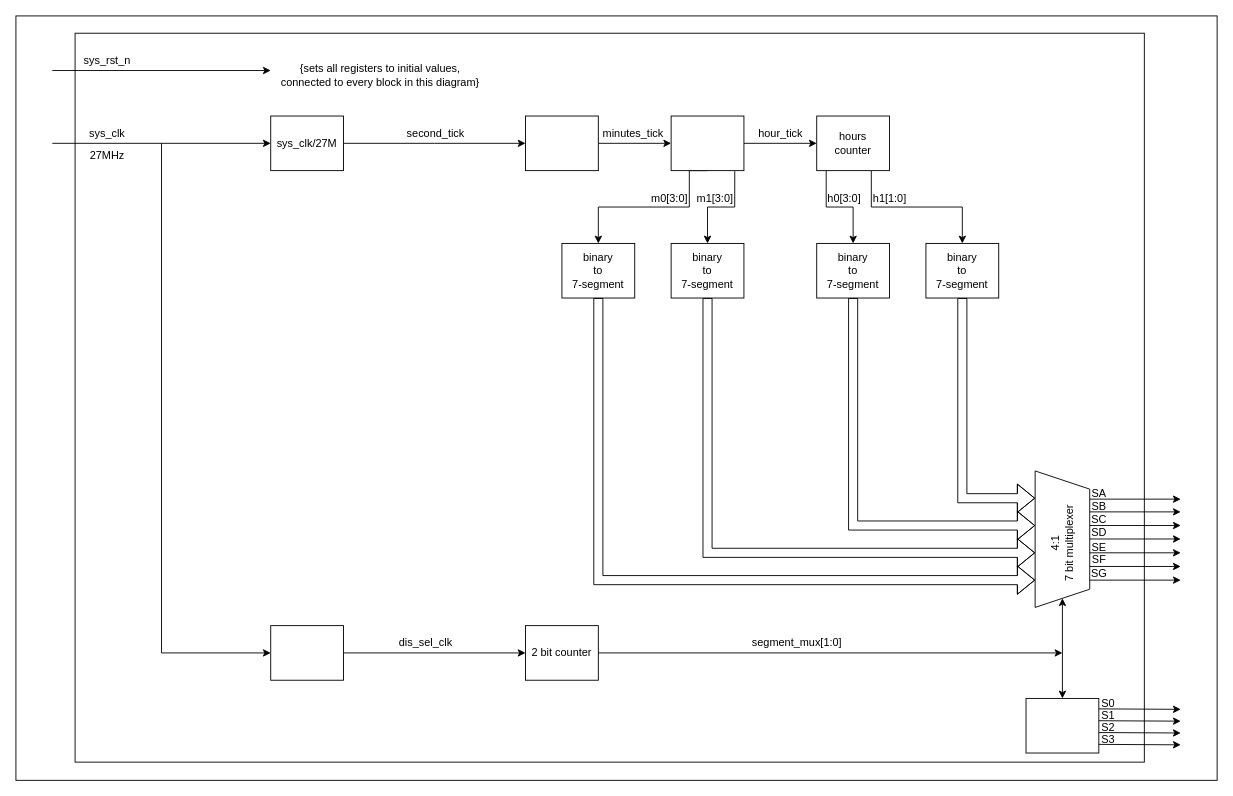
Some shapes in this 1233 by 796 pixel diagram are drawn without their labels. Each missing label, with the centre of its shape:
2X4 decoder: the point at 1062,725
minutes counter: the point at 707,143
seconds counter: the point at 561,143
sys_clk/27K: the point at 307,652
